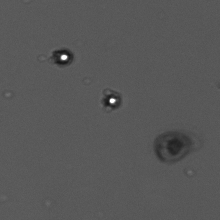Dead Cell: (150, 128, 195, 166)
Living Cell: (46, 42, 80, 70), (96, 87, 125, 113)
